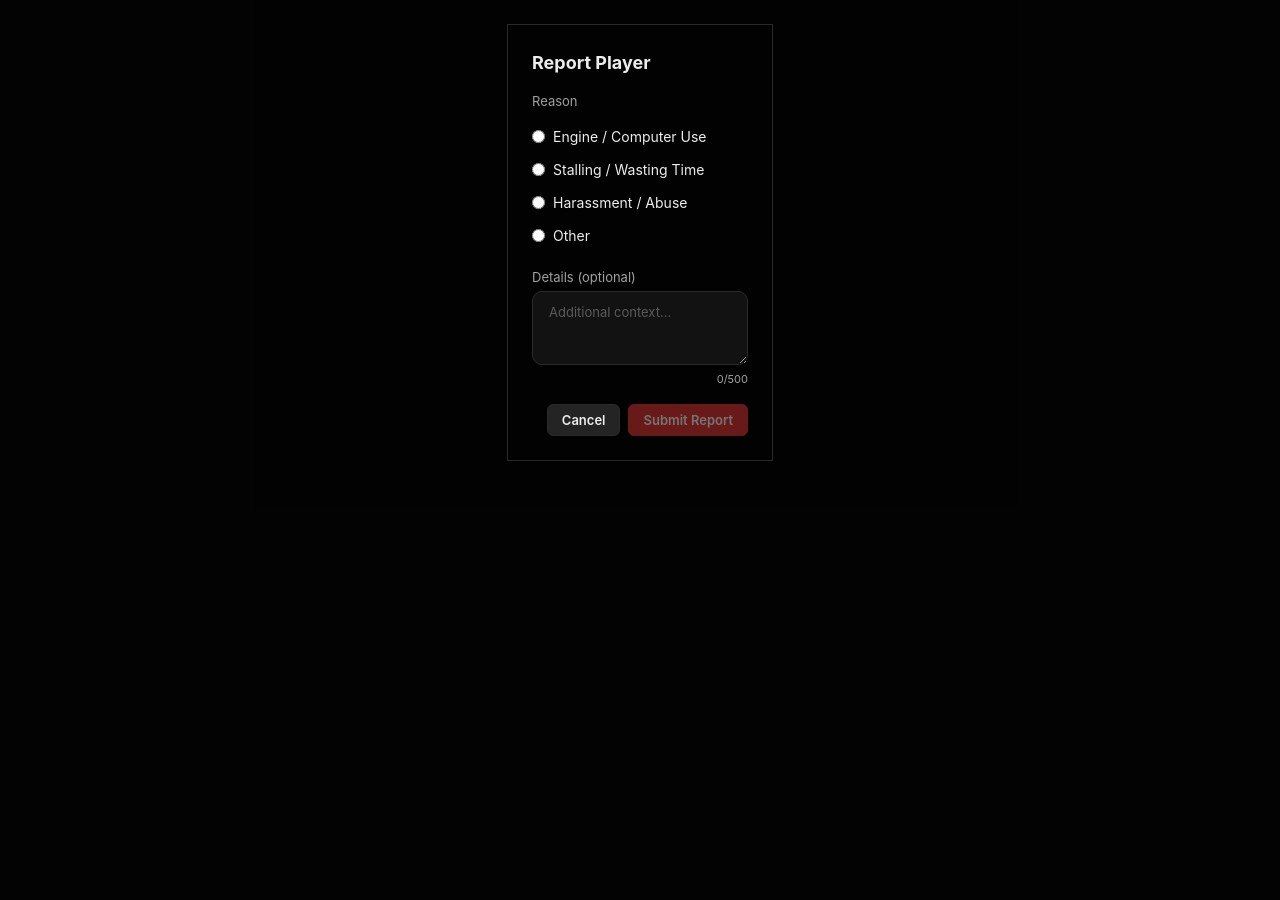
Test case: ReportModal › should show error message on failed submission
Step 1. Click the text "Engine / Computer Use" → (619,136), box [532,128,706,144]
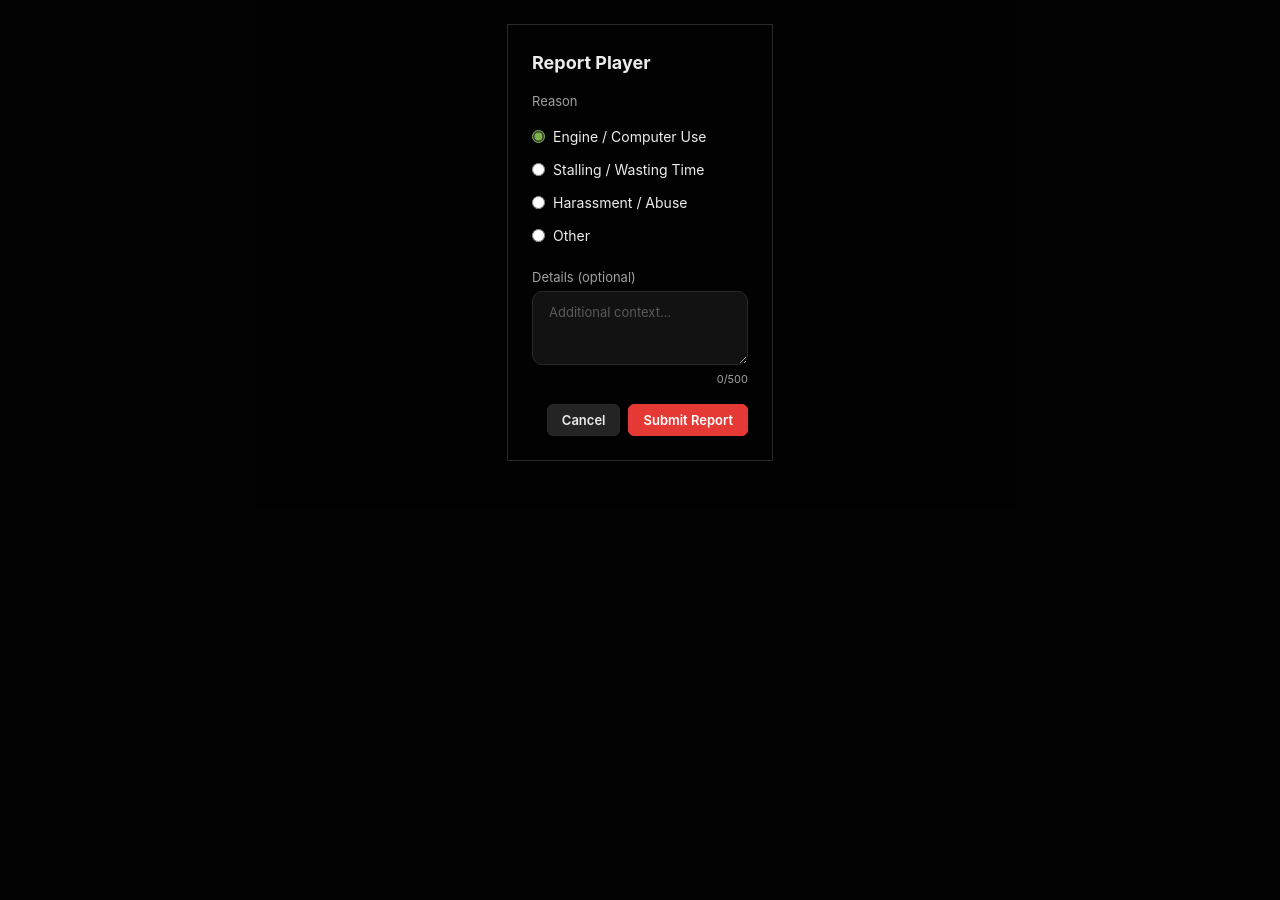
Step 2. Click the button "Submit Report" → (688,420), box [628,404,748,436]
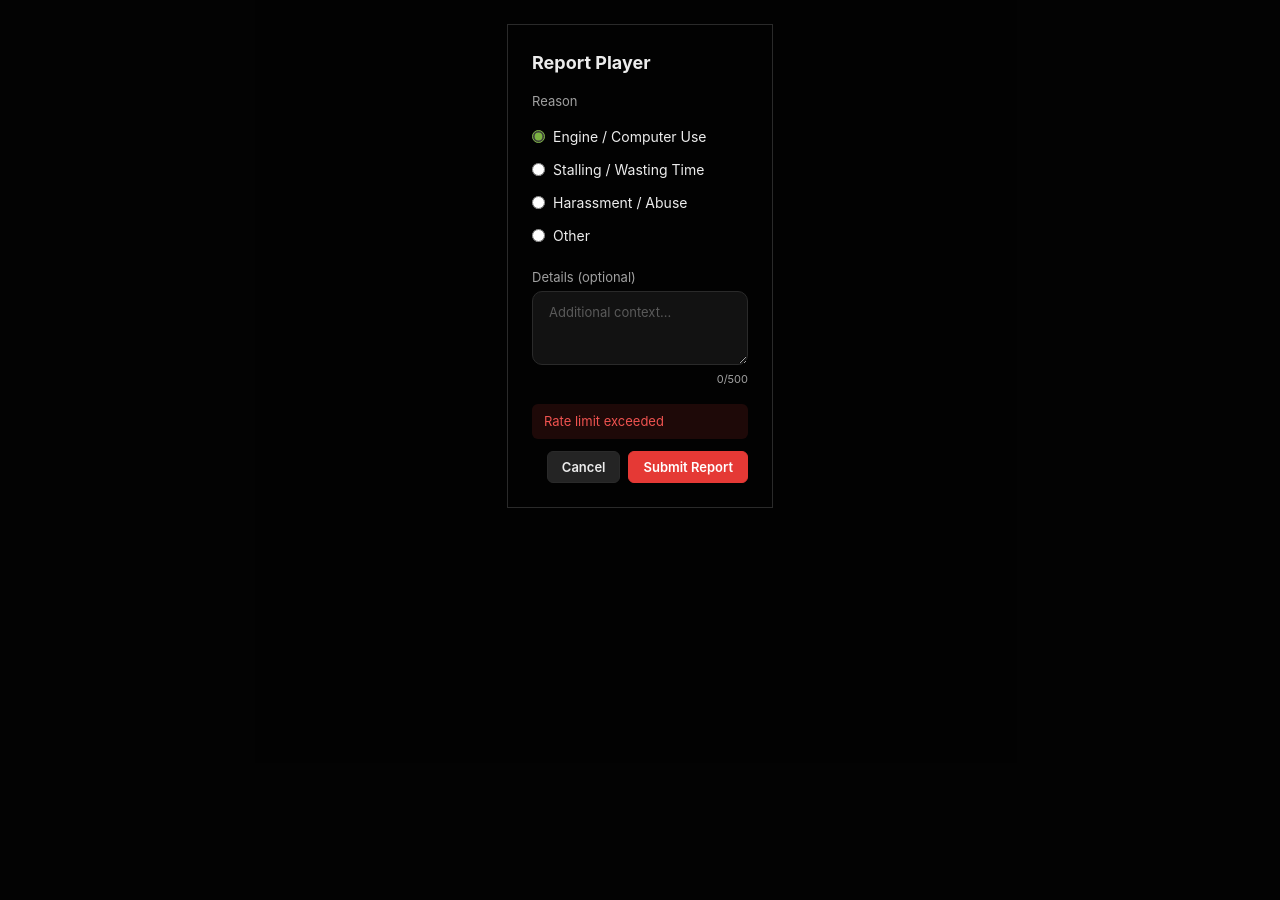
Expected: the text "Rate limit exceeded" is shown, [532,404,748,439]
